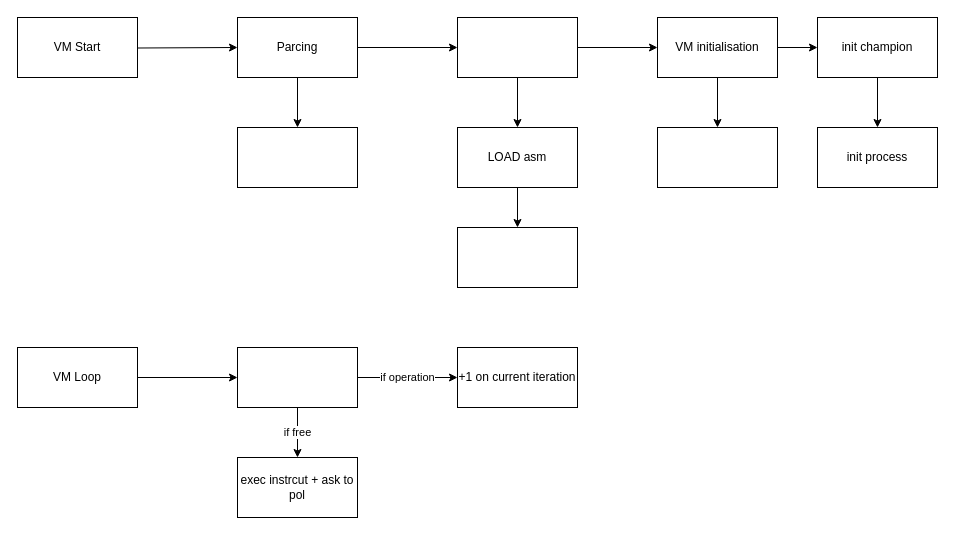
This 955x535 diagram has some shape labels left out. The centre of each missing label's shape, as x and y in pixels:
"check all process" belongs at point (297, 377).
"get_some params" belongs at point (297, 157).
"init params" belongs at point (717, 157).
"verif asm" belongs at point (517, 47).
"WRITE asm" belongs at point (517, 257).
